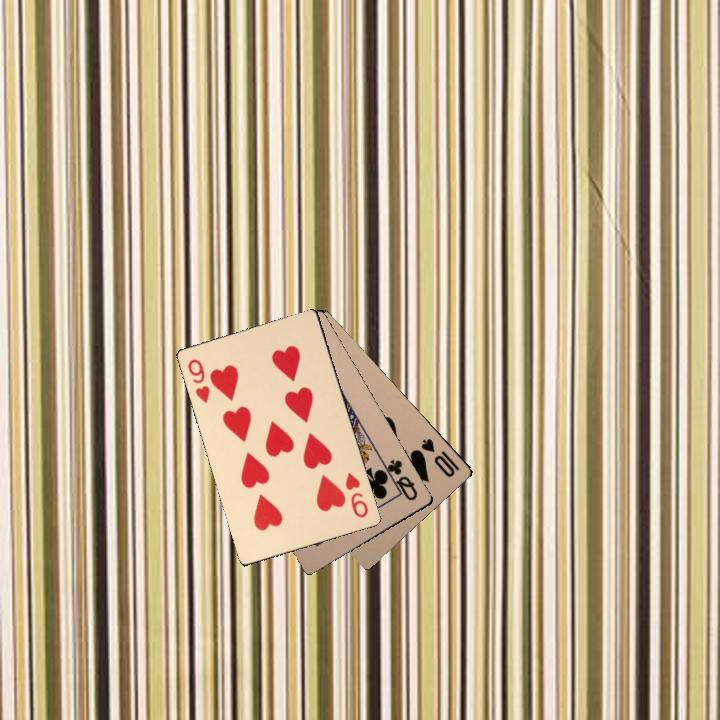10s: (417, 434, 462, 480)
9h: (341, 468, 371, 520), (184, 355, 212, 406)
Qc: (379, 455, 420, 503)
